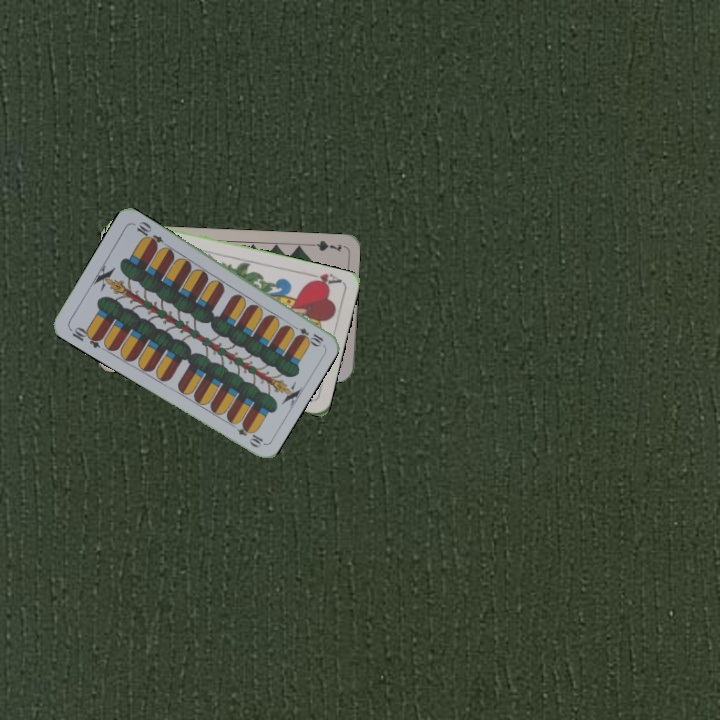E10: (65, 323, 105, 351), (287, 321, 326, 348)
G7: (304, 236, 344, 254)
HA: (304, 269, 344, 289)
